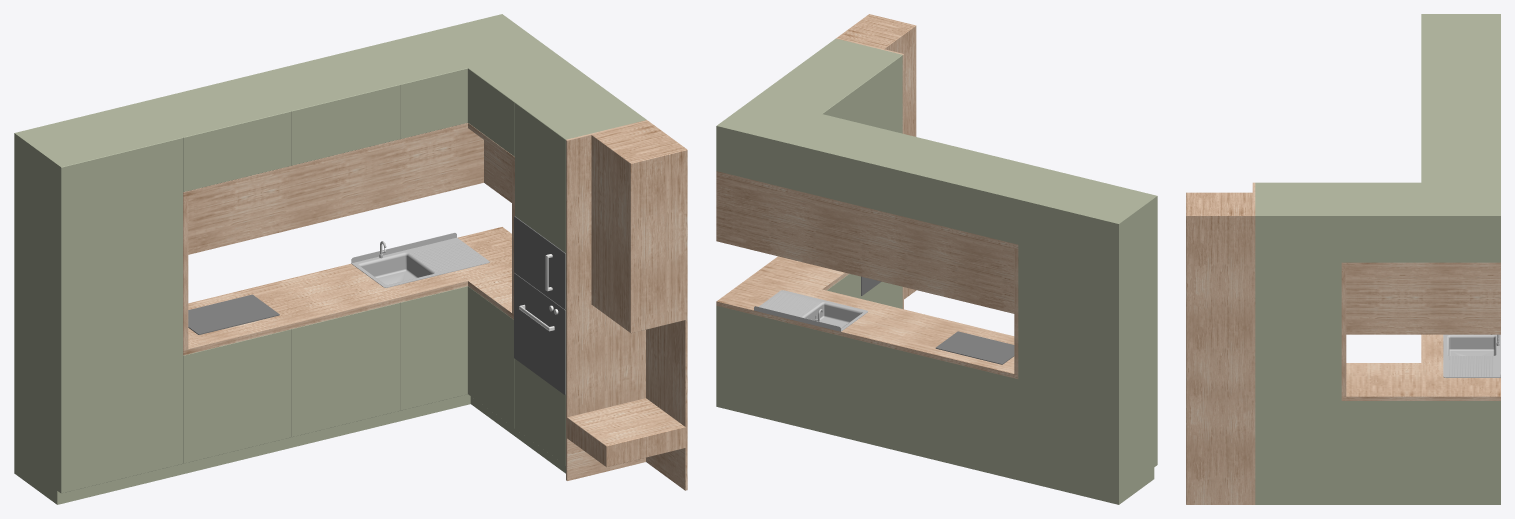
Rendered from kitchen.glb.
The picture shows the model from 3 angles, left to right: view 1: azimuth 30°, elevation 25°; view 2: azimuth 150°, elevation 25°; view 3: azimuth 270°, elevation 25°; orthographic projection. The views are drawn at different scales.
Visible parts, largest first — view 1: Fridge Section, kitchenDeco, midBoxes, topBoxes (1), Oven Section, Bottom Section (3), Bottom Section (2), Bottom Section (1), Counter, topBoxes (2), topBoxes (3), Body17 (+5 smaller); view 2: Fridge Section, midBoxes, topBoxes (1), Counter, Bottom Section (3), Bottom Section (2), Bottom Section (1), topBoxes (2), topBoxes (3), Oven Section, kitchenDeco, Bottom Section (+4 smaller); view 3: Oven Section, kitchenDeco, Bottom Section, topBoxes (1), midBoxes, Counter, Fridge Section, topBoxes (2), topBoxes (3), Body2, topCounter, sideCounterTop (1).
Part boxes in pixels (x1,y1,x2,y2): Fridge Section: [14, 103, 182, 504]; kitchenDeco: [566, 120, 687, 490]; midBoxes: [188, 128, 511, 254]; topBoxes (1): [353, 14, 595, 156]; Oven Section: [515, 83, 646, 473]; Bottom Section (3): [396, 286, 521, 440]; Bottom Section (2): [287, 302, 399, 448]; Bottom Section (1): [179, 329, 291, 474]; Counter: [183, 227, 513, 355]; topBoxes (2): [245, 50, 399, 165]; topBoxes (3): [137, 77, 291, 192]; Body17: [514, 273, 565, 394]; Fridge Section: [1018, 171, 1157, 504]; midBoxes: [716, 175, 1014, 313]; topBoxes (1): [716, 69, 877, 200]; Counter: [716, 256, 1018, 378]; Bottom Section (3): [750, 274, 860, 436]; Bottom Section (2): [839, 335, 928, 458]; Bottom Section (1): [929, 357, 1018, 480]; topBoxes (2): [839, 127, 966, 222]; topBoxes (3): [929, 149, 1056, 244]; Oven Section: [794, 38, 902, 308]; kitchenDeco: [836, 14, 916, 309]; Bottom Section: [716, 305, 749, 414]; Oven Section: [1255, 182, 1341, 504]; kitchenDeco: [1186, 182, 1255, 504]; Bottom Section: [1341, 401, 1500, 504]; topBoxes (1): [1341, 154, 1500, 262]; midBoxes: [1346, 267, 1500, 334]; Counter: [1341, 334, 1500, 400]; Fridge Section: [1421, 14, 1500, 64]; topBoxes (2): [1421, 109, 1500, 154]; topBoxes (3): [1421, 64, 1500, 109]; Body2: [1443, 334, 1500, 377]; topCounter: [1341, 262, 1500, 266]; sideCounterTop (1): [1341, 267, 1346, 396].
Bounding box in the file's own units: 3.6 × 2.4 × 2.37.
5 materials, 1 textured.
